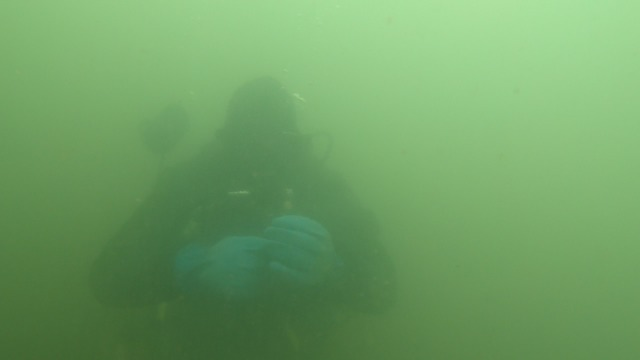Hand: (255, 207, 350, 312), (200, 224, 283, 311)
Head: (215, 69, 315, 197)
